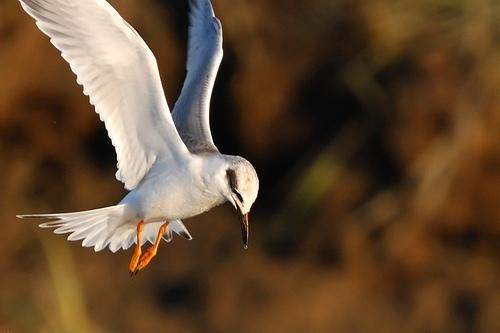bird: (11, 1, 262, 279)
